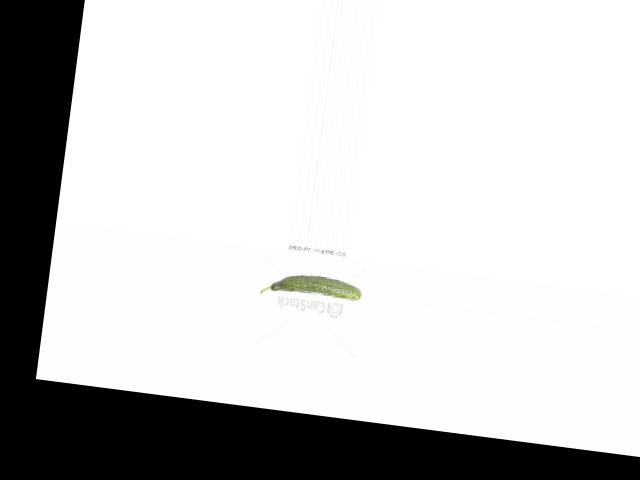cucumber: (259, 268, 362, 305)
